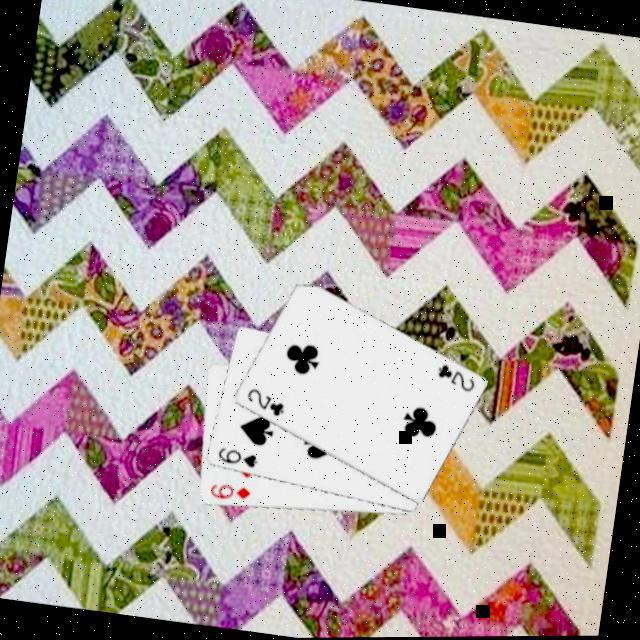2C: (243, 382, 292, 420), (433, 359, 482, 395)
6D: (208, 478, 256, 505)
6S: (216, 442, 265, 470)
